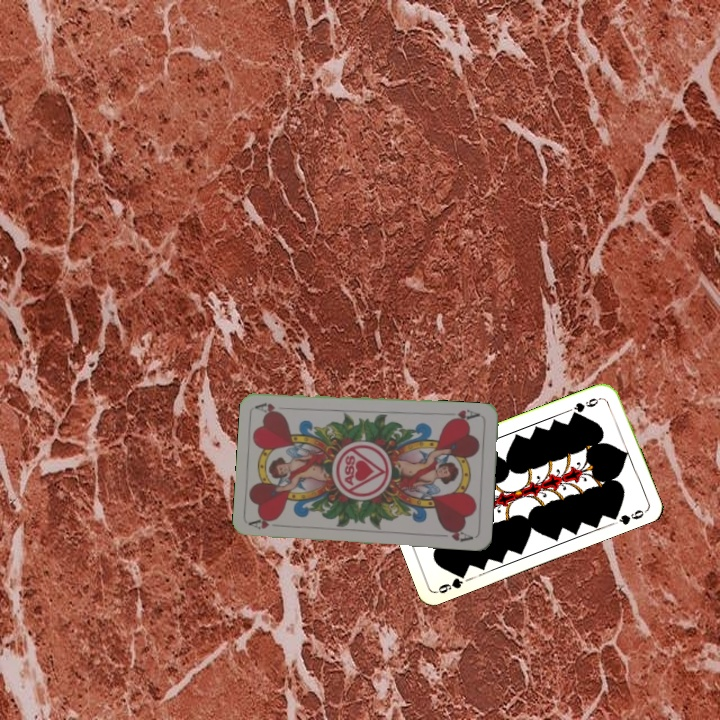G9: (433, 568, 469, 596), (568, 393, 604, 418)
HA: (444, 405, 483, 425), (247, 513, 287, 532)
